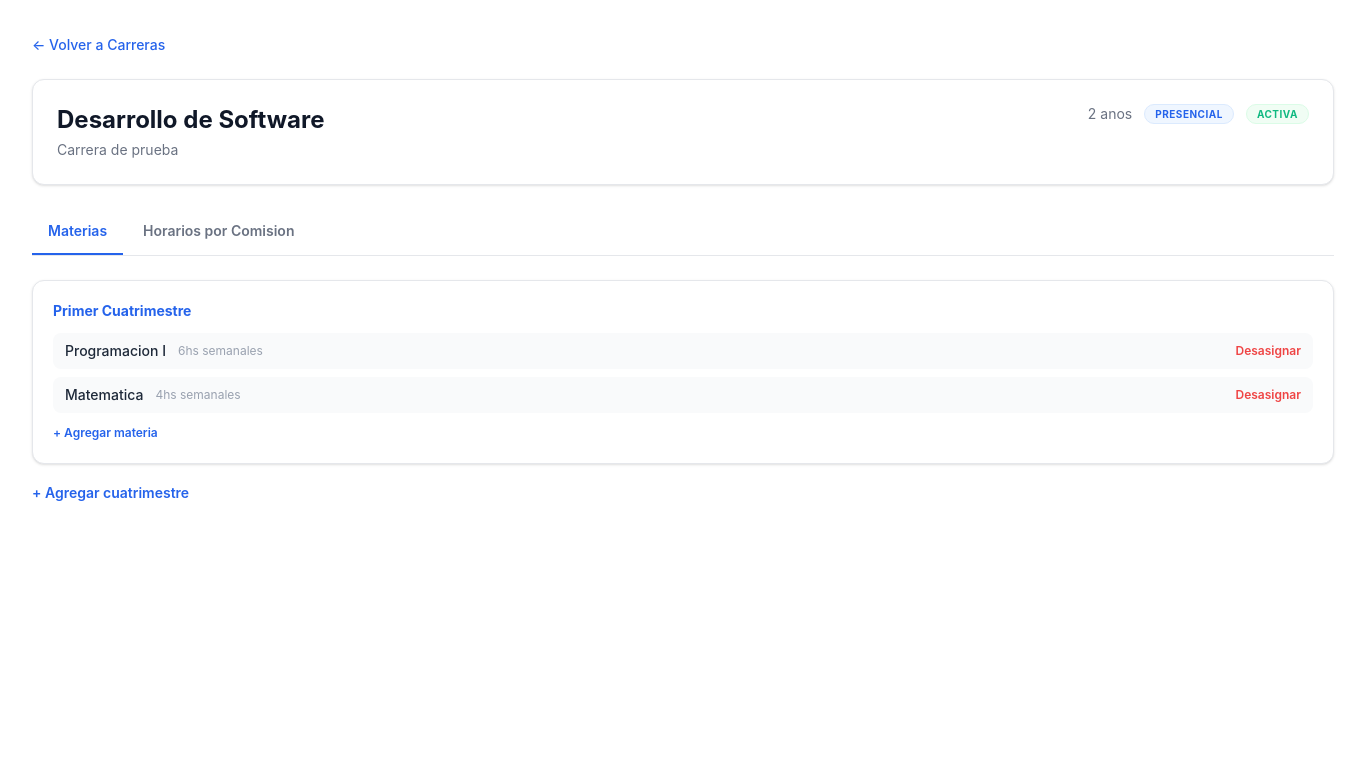
Test: CarreraDetailAdmin - Horarios › permite guardar aunque haya filas vacias y muestra mensaje informativo
Click the button "Horarios por Comision".
click(219, 232)  # box [127,209,310,255]
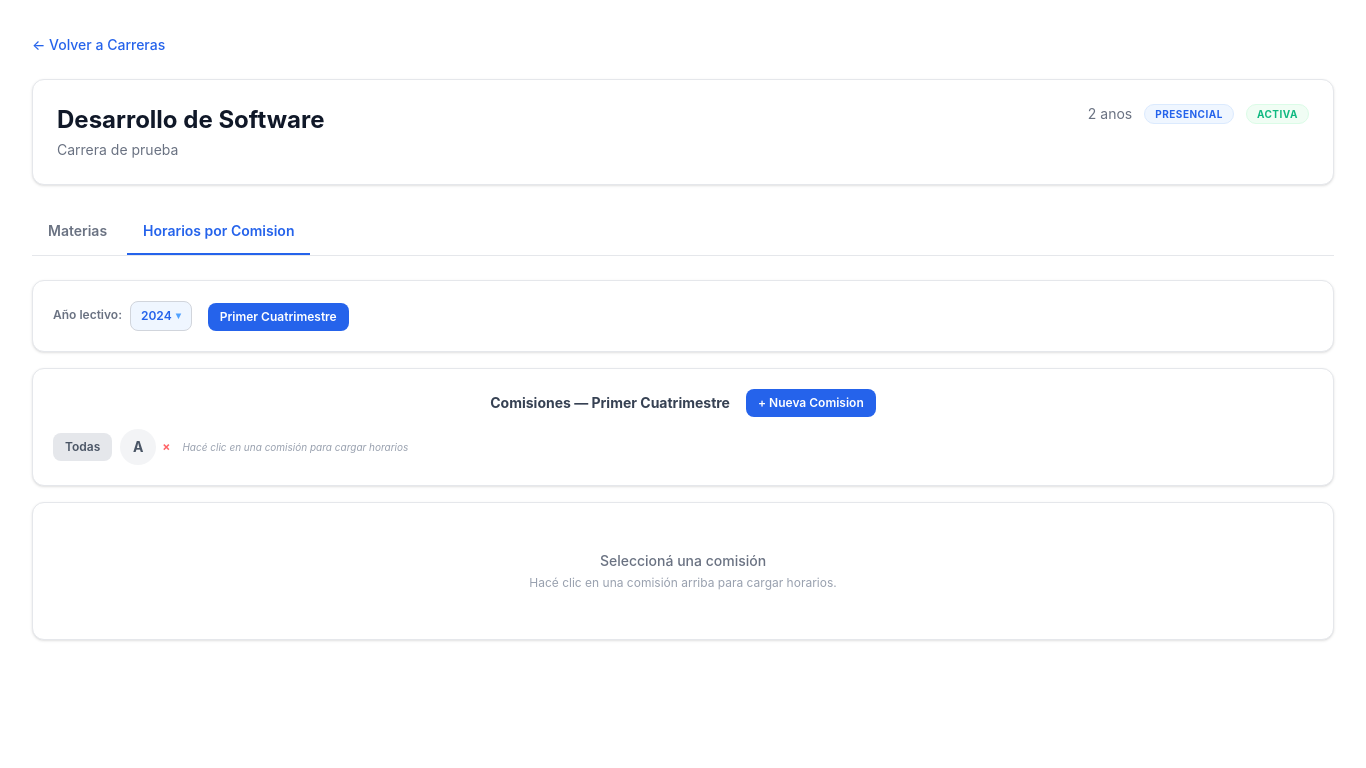
Click the button "A".
click(138, 447)  # box [120,429,156,465]
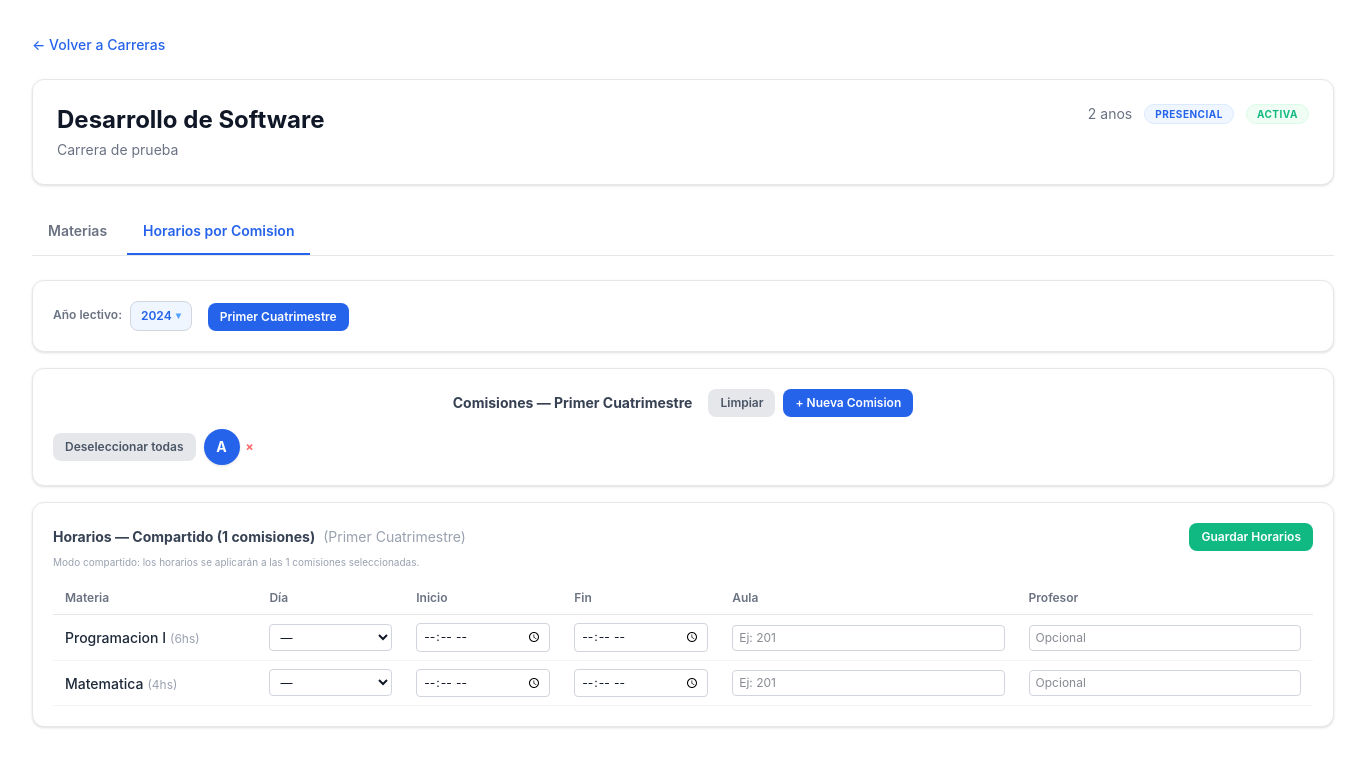
Click the button "Guardar Horarios".
click(1251, 537)  # box [1189,523,1313,551]
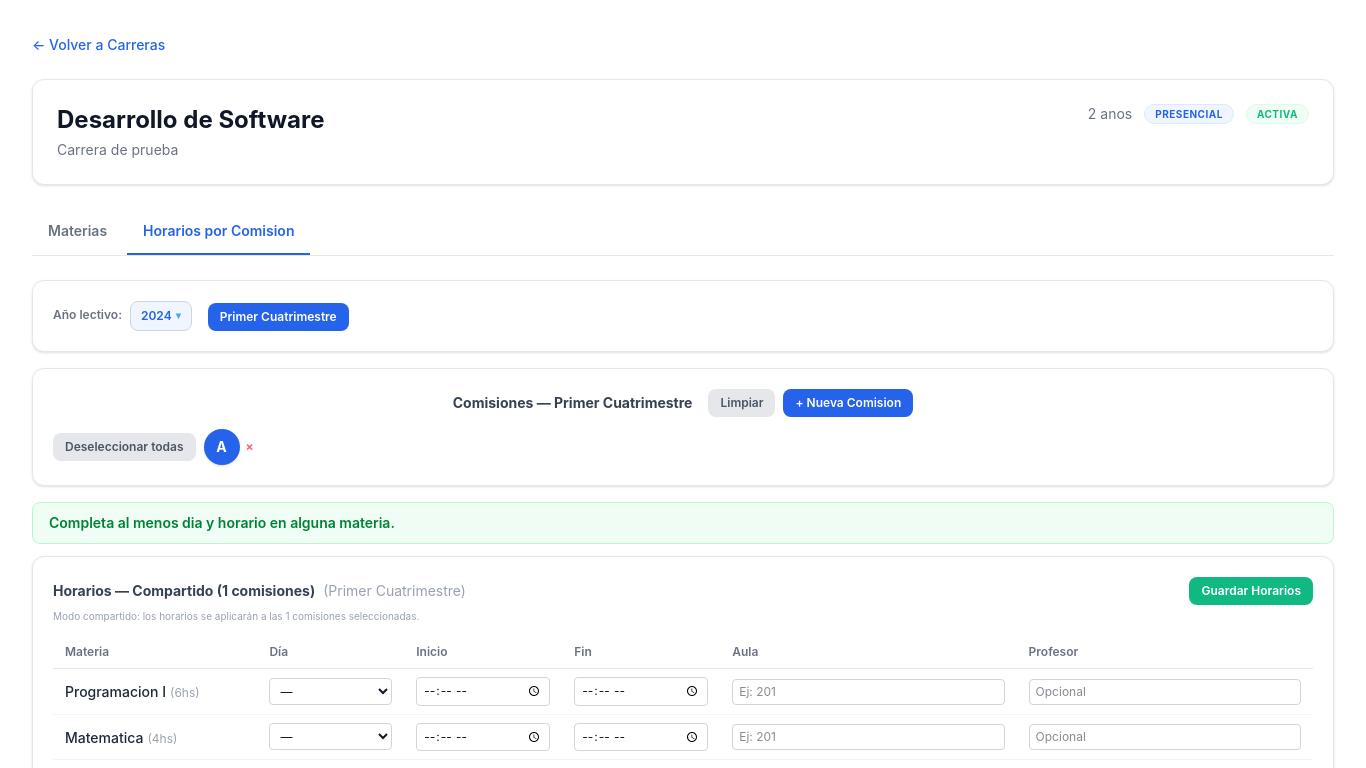
Result: the text "Completa al menos dia y horario en alguna materia." is shown at [32,502,1334,544]
